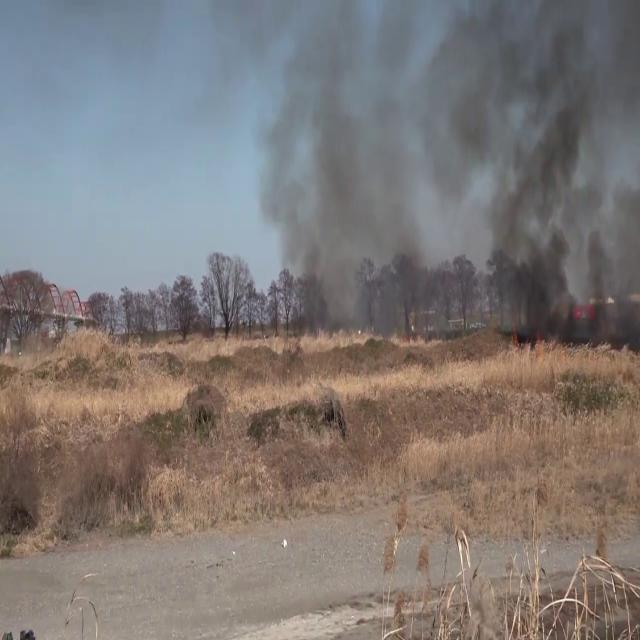Smoke: (242, 1, 447, 332), (436, 0, 640, 329)
